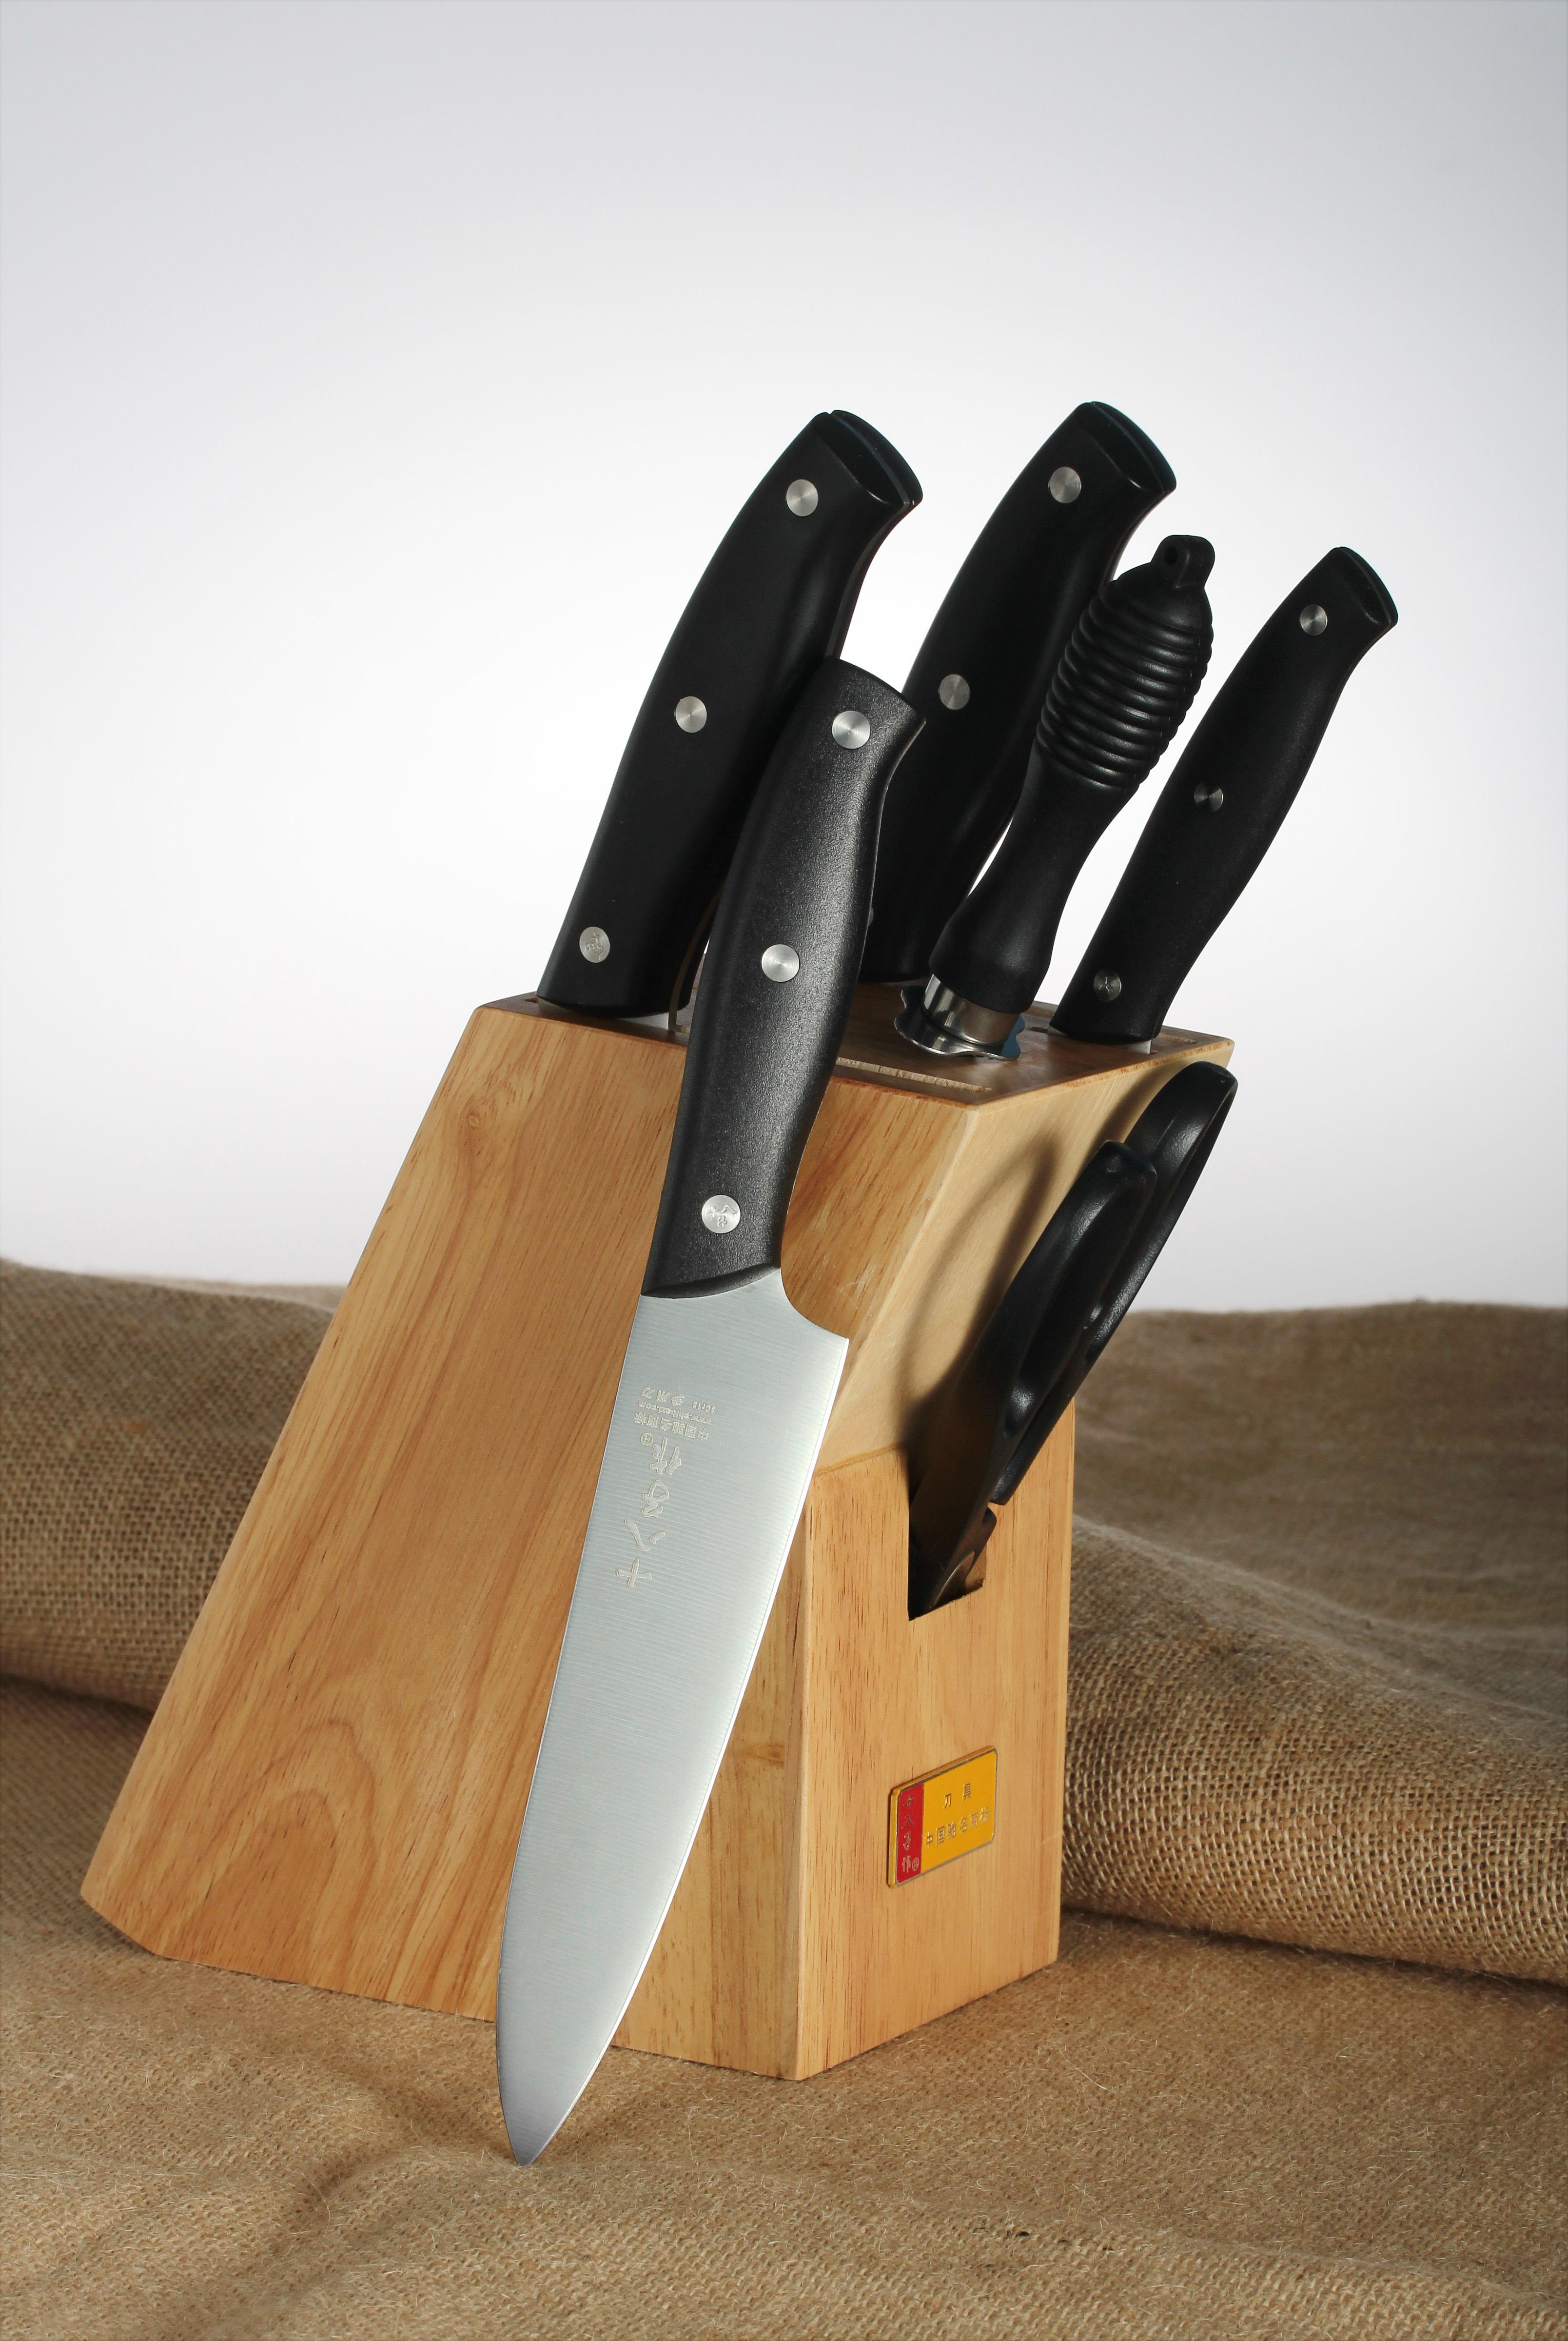knife: (423, 472, 1094, 2184)
